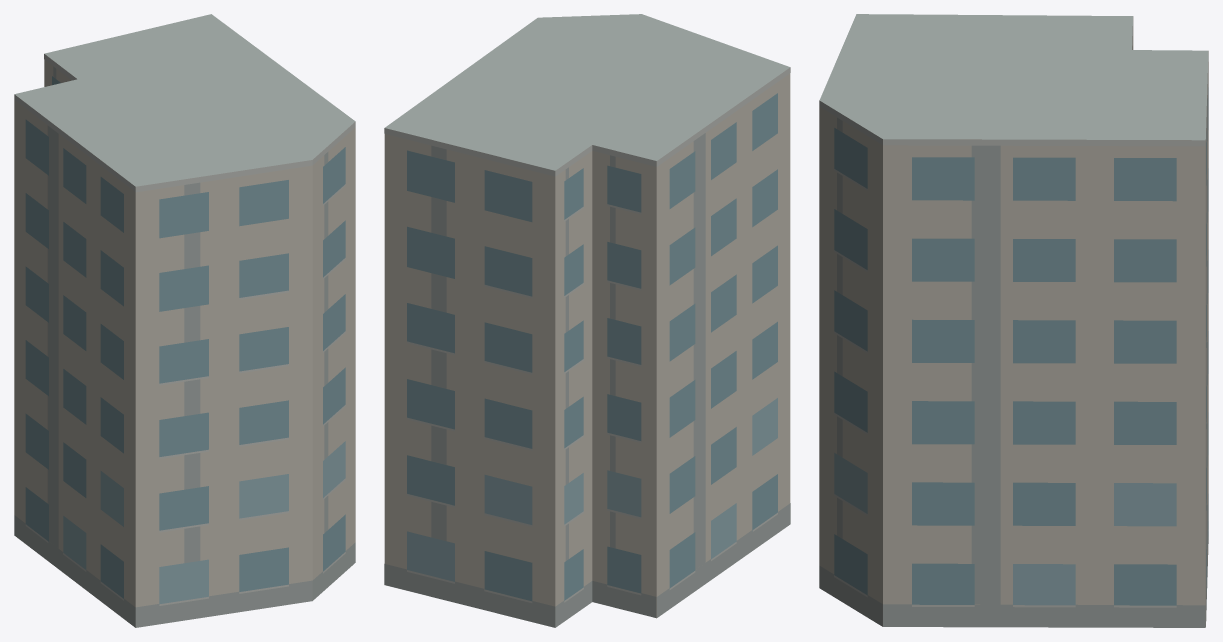
The model's file is survey-upis-32568870.glb.
The picture shows the model from 3 angles, left to right: view 1: azimuth 30°, elevation 25°; view 2: azimuth 150°, elevation 25°; view 3: azimuth 270°, elevation 25°; orthographic projection. The views are drawn at different scales.
Visible parts, largest first — view 1: survey-upis-32568870.tmp; view 2: survey-upis-32568870.tmp; view 3: survey-upis-32568870.tmp.
Boxes of the visible parts, x1=… form: survey-upis-32568870.tmp: x1=14, y1=14, x2=355, y2=627; survey-upis-32568870.tmp: x1=384, y1=14, x2=790, y2=627; survey-upis-32568870.tmp: x1=819, y1=14, x2=1208, y2=627.
Bounding box in the file's own units: 10.55 × 19 × 13.75.
